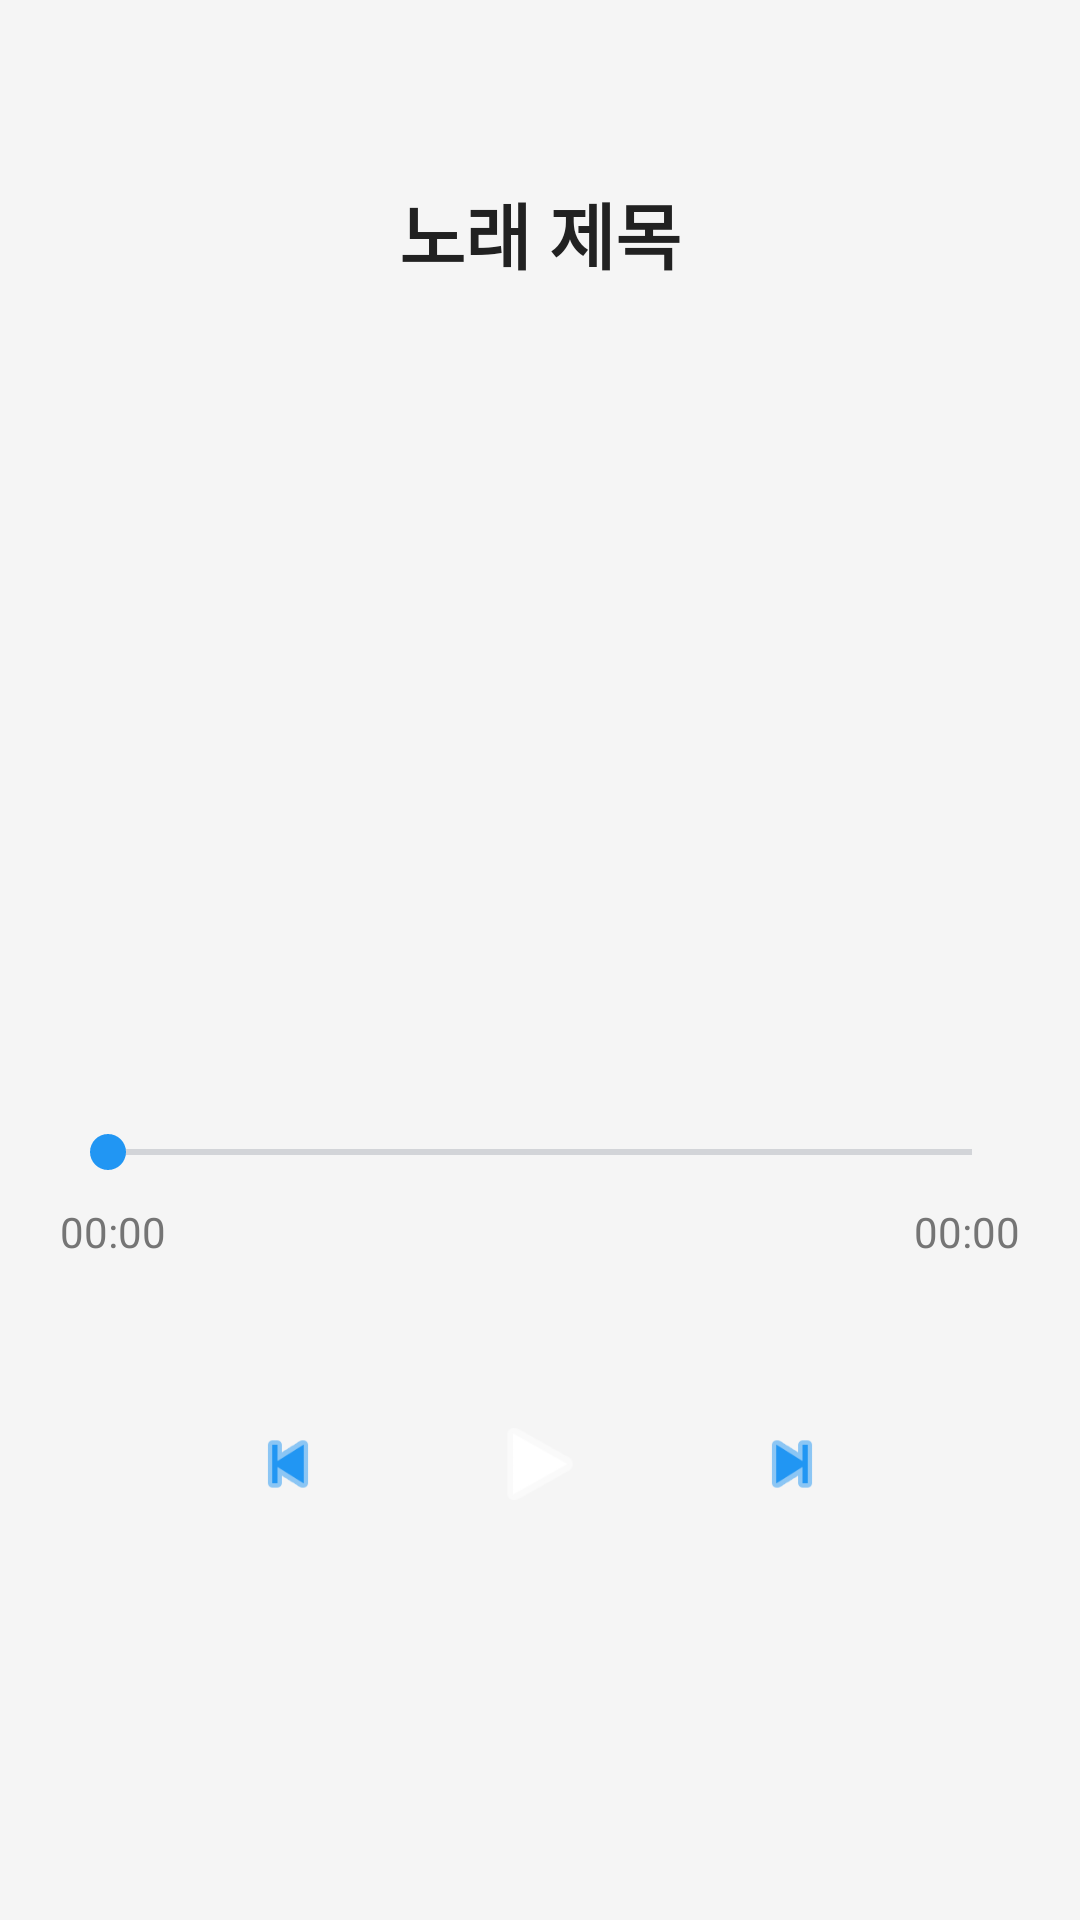

Icon click points for this 1080 x 1920 phone screenshot, format [x,y]:
next: [792,1464]
previous: [288,1464]
